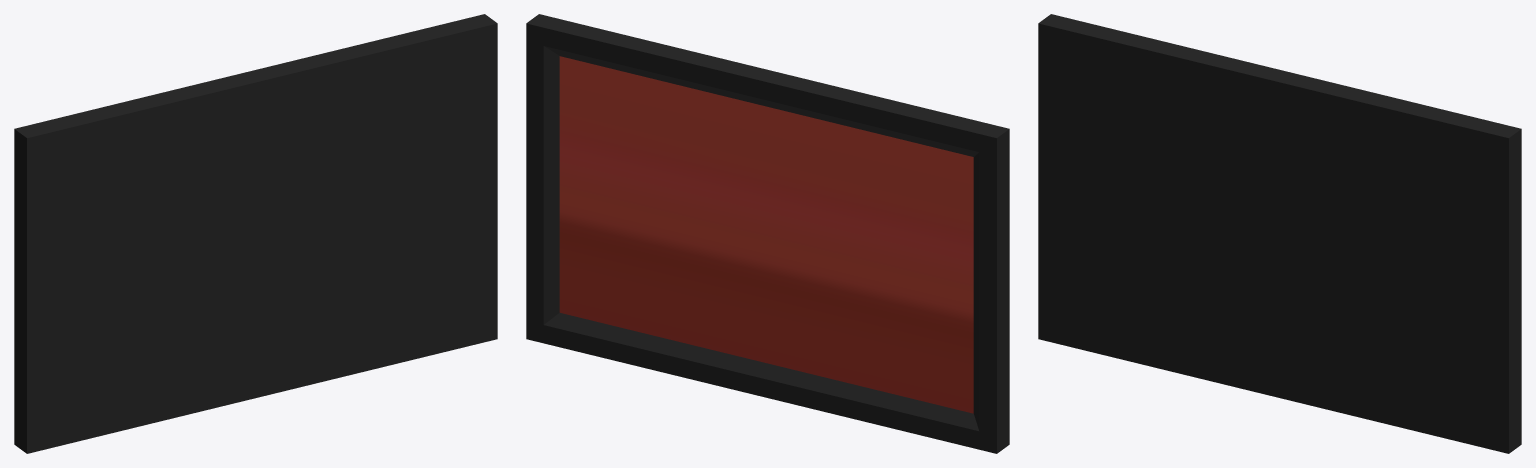
Rendered from tranh2.fbx.
3 renders of one model, left to right at view 1: azimuth 30°, elevation 25°; view 2: azimuth 150°, elevation 25°; view 3: azimuth 330°, elevation 25°, orthographic.
Visible parts, largest first — view 1: tranh2; view 2: tranh2; view 3: tranh2.
Boxes of the visible parts, bbox=[...] form: tranh2: bbox=[14, 14, 497, 453]; tranh2: bbox=[526, 14, 1009, 453]; tranh2: bbox=[1038, 14, 1521, 453].
Size of the model in its own units: 312 by 200 by 14.76.
